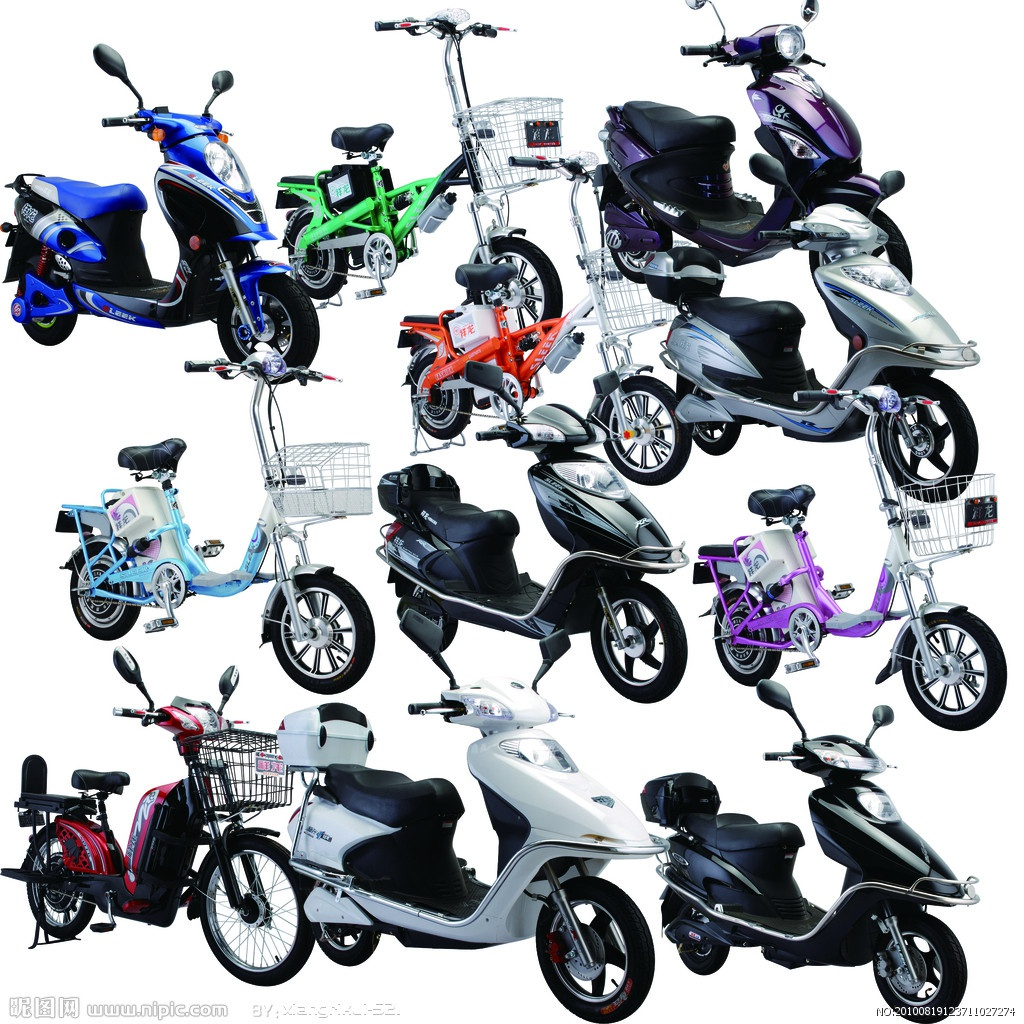non-vehicle: (280, 679, 650, 1019), (642, 720, 985, 1022), (59, 360, 367, 684), (278, 7, 560, 334), (15, 674, 304, 982), (648, 209, 983, 473), (591, 21, 916, 288), (2, 106, 320, 373), (382, 417, 684, 695), (694, 473, 1008, 720), (396, 262, 688, 459)
